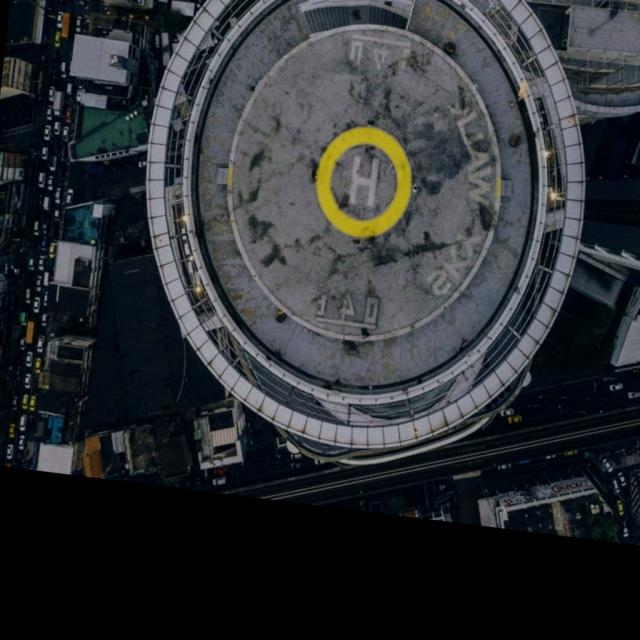helipad: (313, 120, 417, 242)
